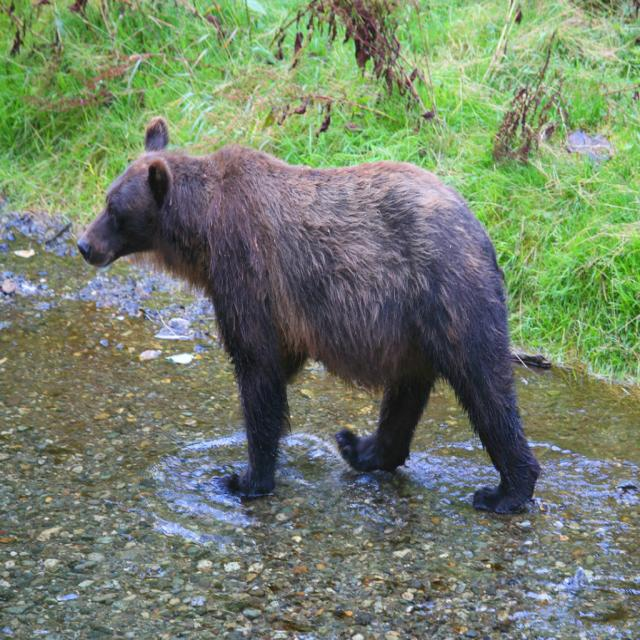Cheetahs: (75, 115, 543, 516)
